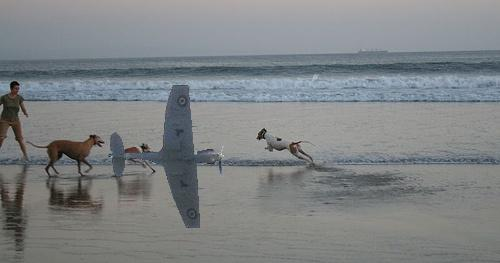tampered: (109, 85, 224, 228)
